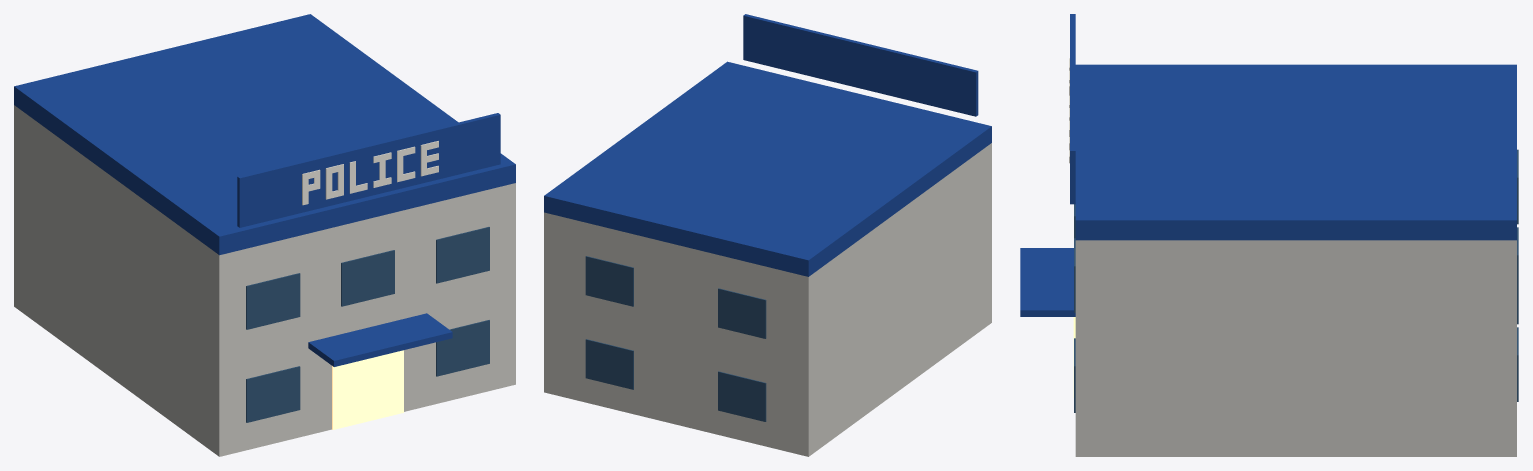
File: bld_in_police.glb
The picture shows the model from 3 angles, left to right: view 1: azimuth 30°, elevation 25°; view 2: azimuth 150°, elevation 25°; view 3: azimuth 270°, elevation 25°; orthographic projection. The views are drawn at different scales.
Visible parts, largest first — view 1: bld_in_police; view 2: bld_in_police; view 3: bld_in_police.
Part boxes in pixels (left/top/right/bottom): bld_in_police: left=14, top=14, right=515, bottom=456; bld_in_police: left=544, top=14, right=991, bottom=456; bld_in_police: left=1020, top=14, right=1518, bottom=456.
Size of what is drawn, in the model's own units: 10 by 8.9 by 13.54.
